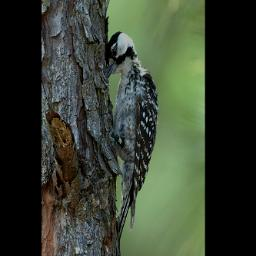Woodpecker: (105, 31, 160, 240)
